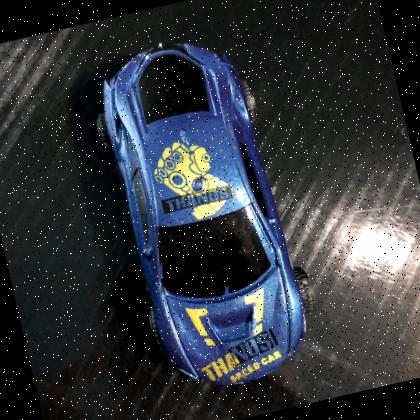Car: (73, 14, 335, 412)
